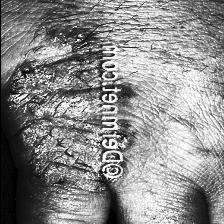Non-Cancerous Skin Condition: (9, 40, 99, 170)
